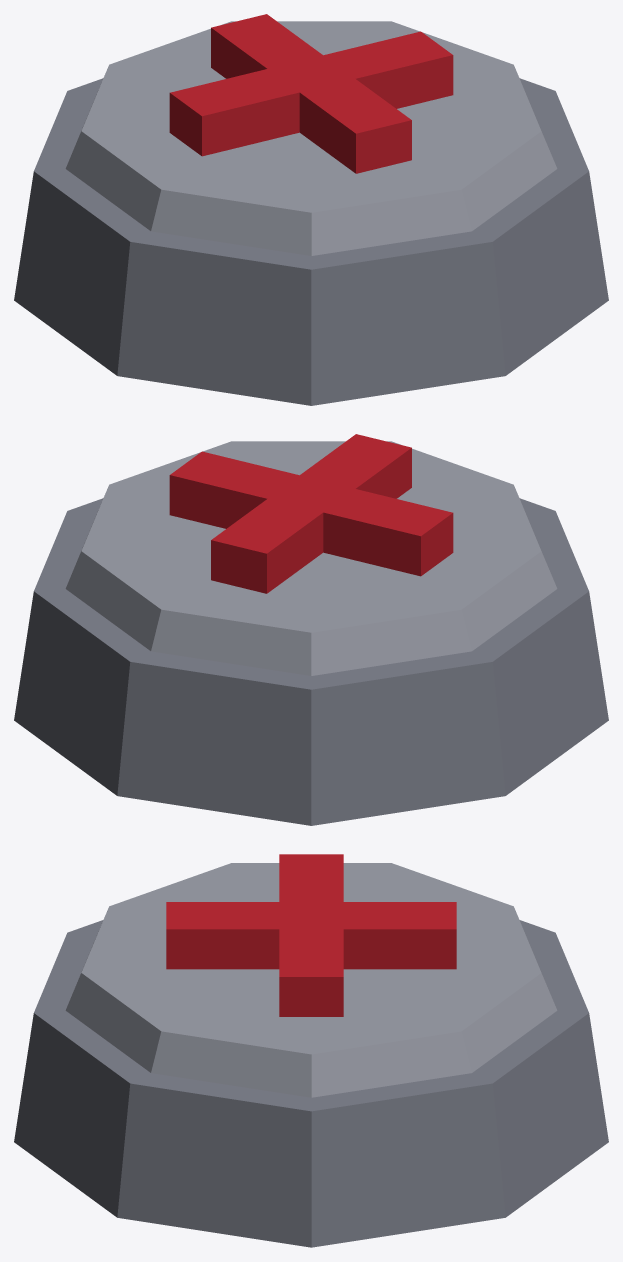
The model's file is drop_rune_chaos.glb.
The picture shows the model from 3 angles, top to bottom: view 1: azimuth 30°, elevation 25°; view 2: azimuth 150°, elevation 25°; view 3: azimuth 270°, elevation 25°; orthographic projection.
Parts seen in each view (by area): view 1: drop_rune_chaos; view 2: drop_rune_chaos; view 3: drop_rune_chaos.
Part boxes in pixels (x1,y1,x2,y2): drop_rune_chaos: (14,14,608,405); drop_rune_chaos: (14,434,608,825); drop_rune_chaos: (14,854,608,1247).
Size of the model in its own units: 0.1455 by 0.056 by 0.1477.
